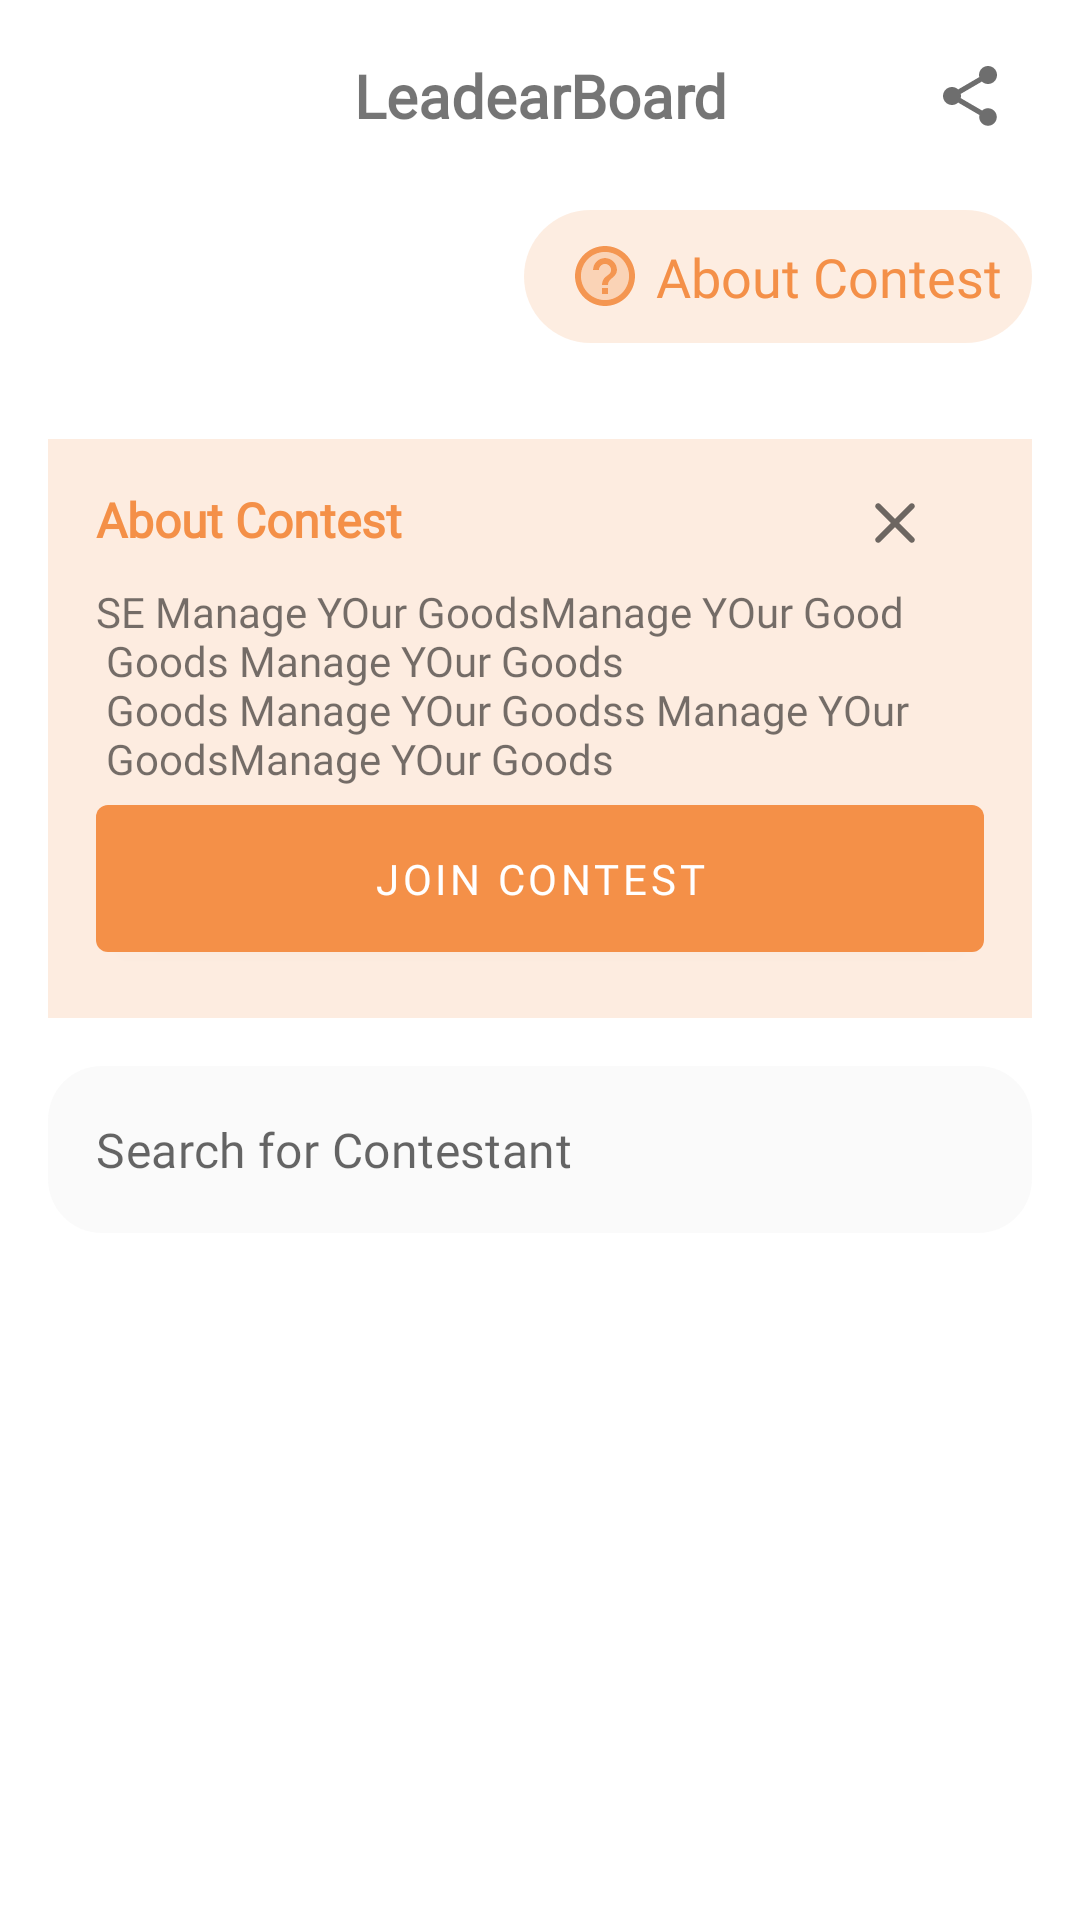

Point at icon controls on the screen. Image size 1080px×1920px, points as (x=x, y=y).
close: (x=895, y=523)
help: (x=605, y=276)
share: (x=970, y=96)
